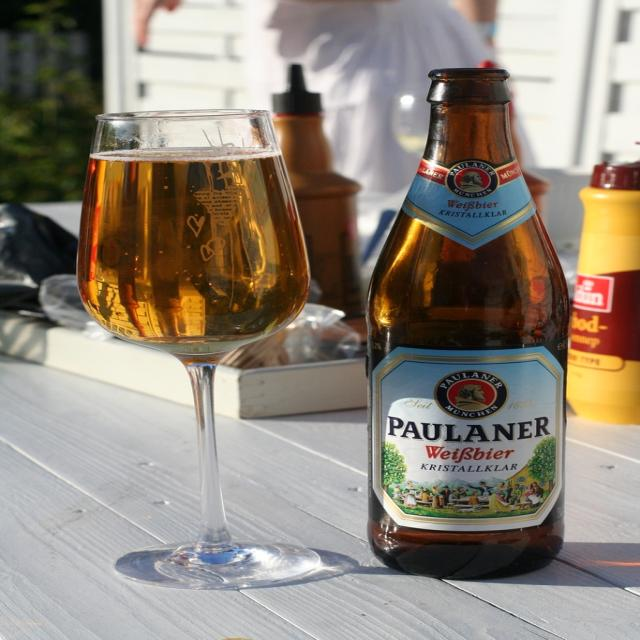paulaner: (435, 372, 506, 419), (447, 162, 499, 198)
